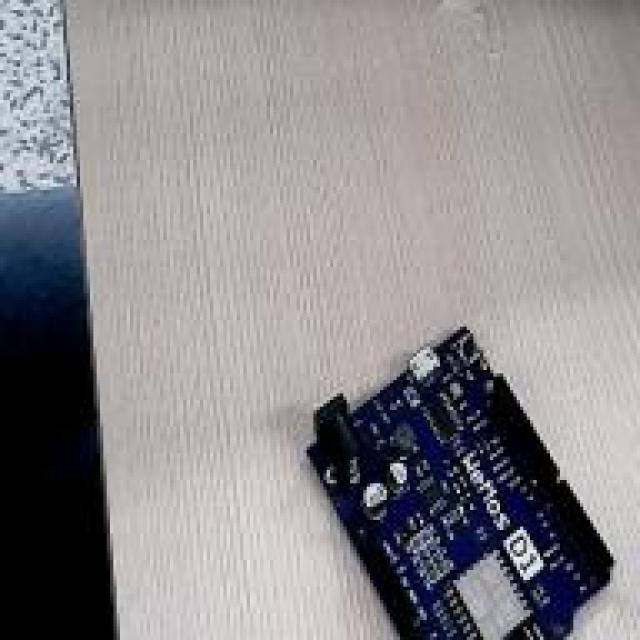Wemos: (311, 328, 611, 638)
